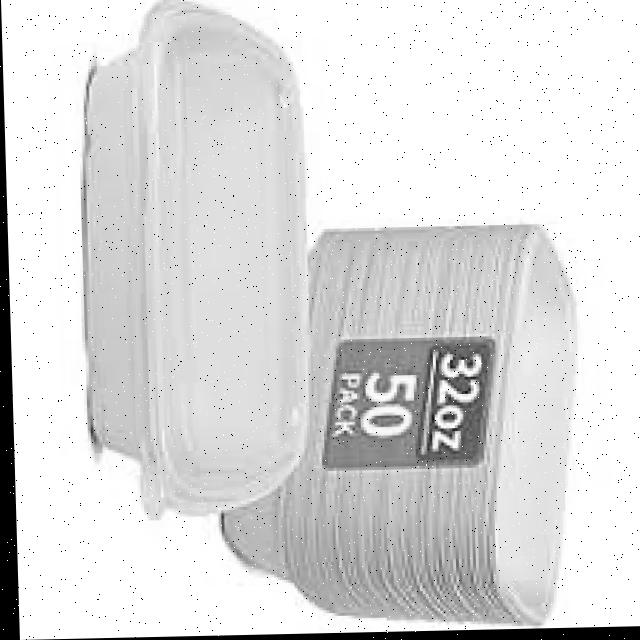disposable: (56, 0, 321, 532)
